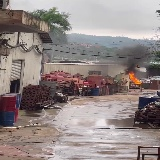fire: (128, 72, 143, 84)
